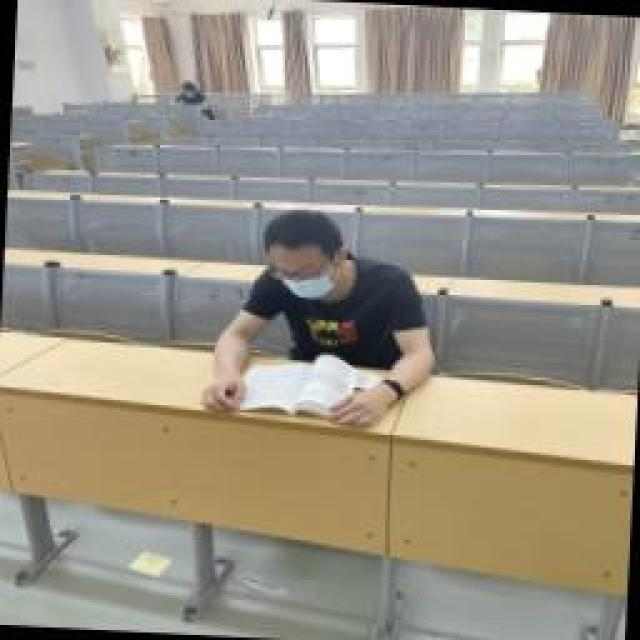study: (195, 205, 443, 430)
